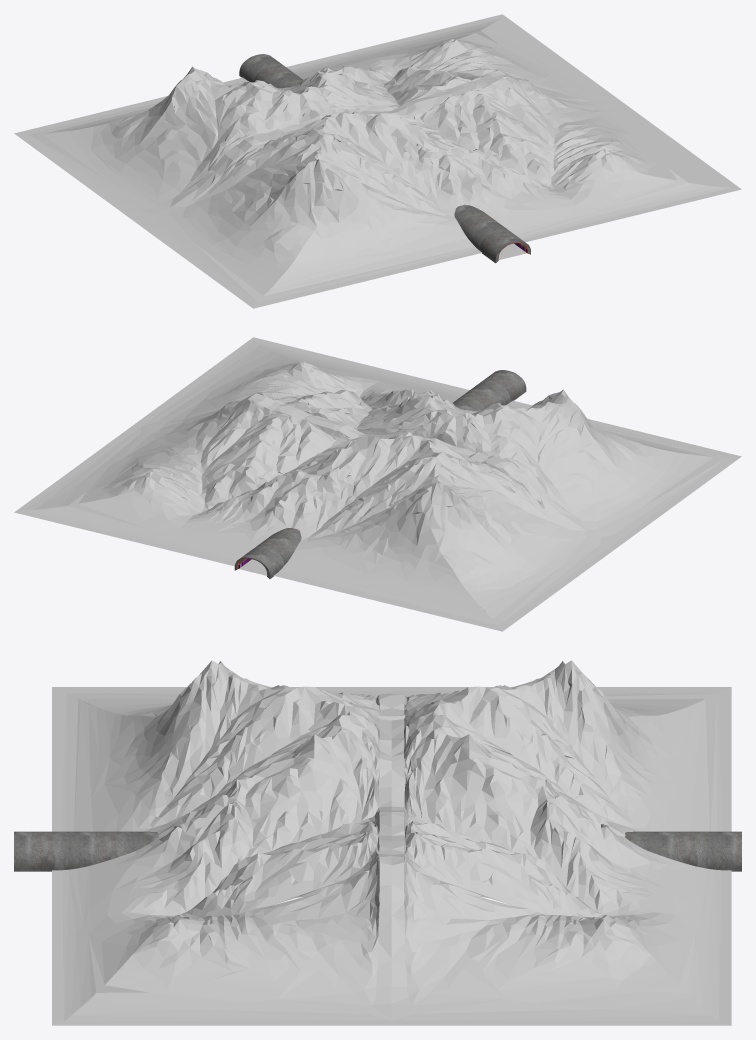
File: rock_tunnel.FBX
3 views of the same model, one above another, from view 1: azimuth 30°, elevation 25°; view 2: azimuth 150°, elevation 25°; view 3: azimuth 270°, elevation 25° (orthographic). The views are drawn at different scales.
Parts seen in each view (by area): view 1: Plane012, Object001, Object009; view 2: Plane012, Object001, Object009; view 3: Plane012, Object001, Object009.
Part boxes in pixels (x1=…): Plane012: x1=14, y1=14, x2=741, y2=308; Object001: x1=454, y1=204, x2=527, y2=262; Object009: x1=239, y1=54, x2=302, y2=88; Plane012: x1=14, y1=337, x2=741, y2=631; Object001: x1=453, y1=370, x2=526, y2=411; Object009: x1=234, y1=527, x2=301, y2=578; Plane012: x1=52, y1=660, x2=731, y2=1025; Object001: x1=14, y1=831, x2=158, y2=871; Object009: x1=625, y1=831, x2=741, y2=871.
Size of the model in its own units: 664 by 604 by 103.
